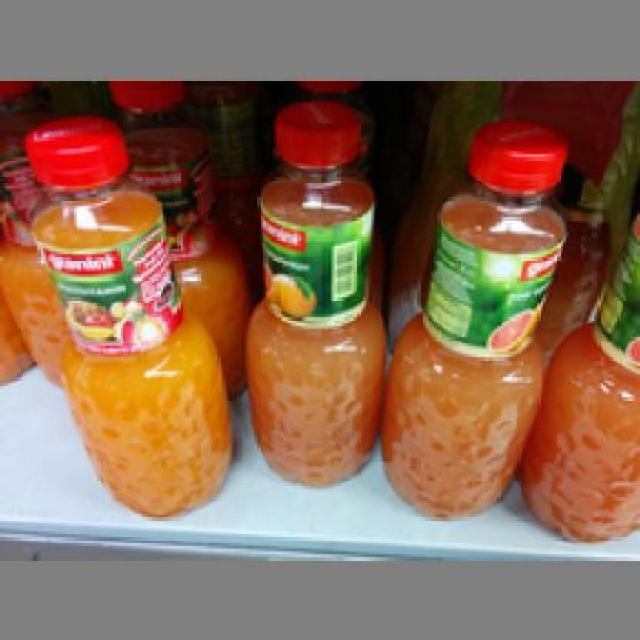Juice: (20, 112, 234, 514), (380, 117, 566, 514), (241, 97, 385, 486), (514, 200, 637, 543)
